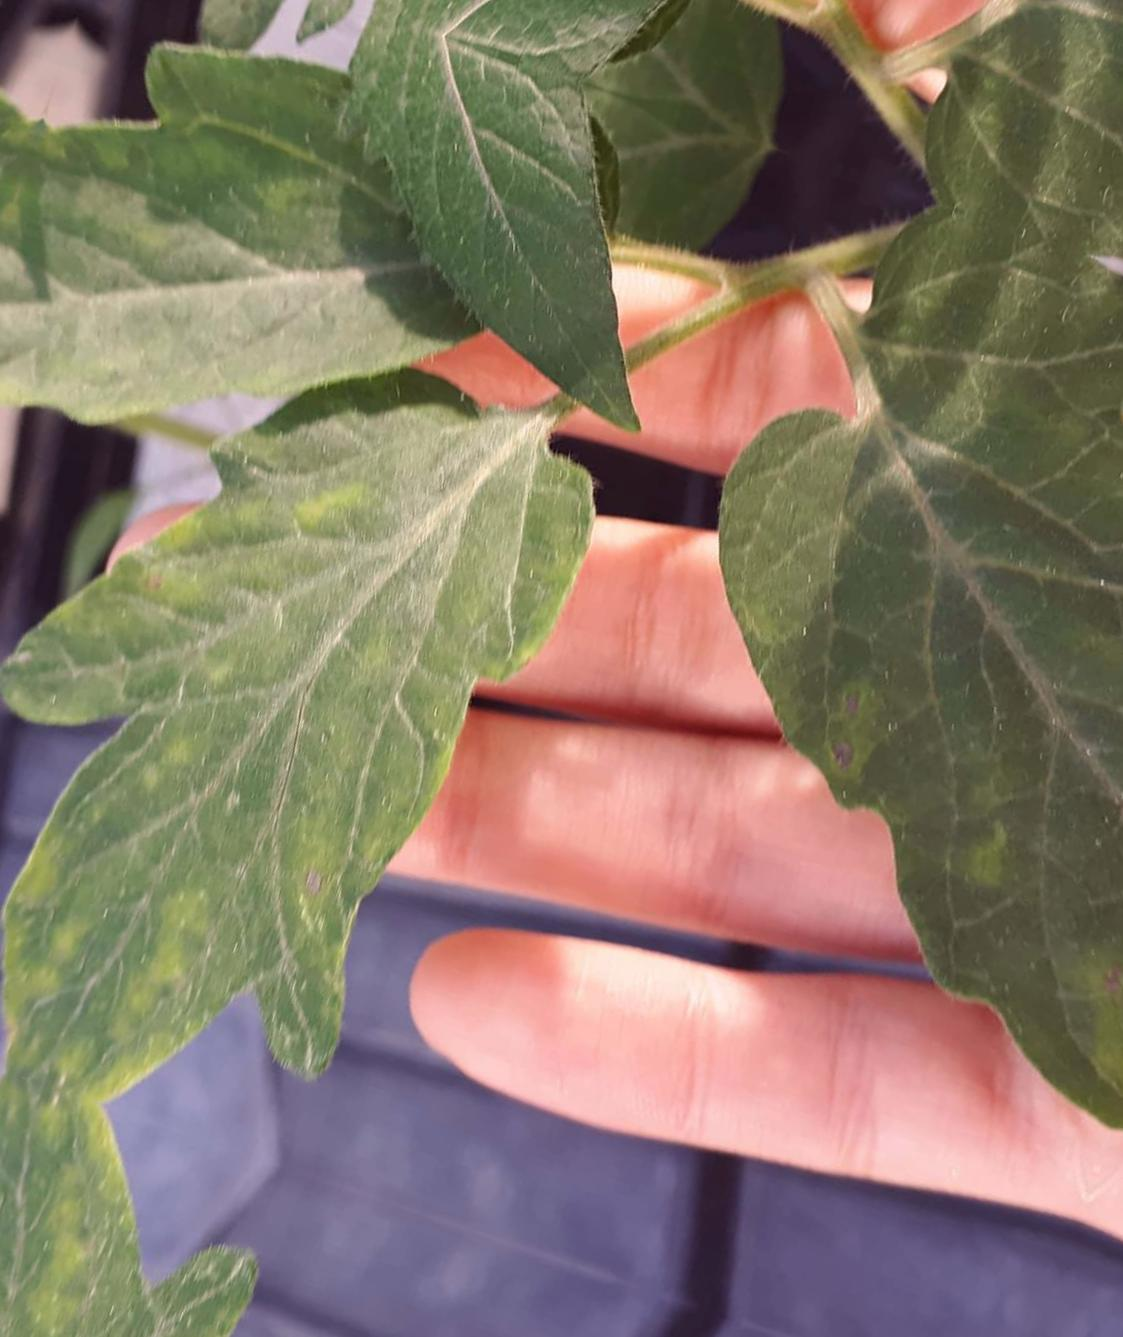Tomato mold leaf: (525, 160, 1123, 1192), (0, 243, 607, 1187), (207, 0, 778, 456)
